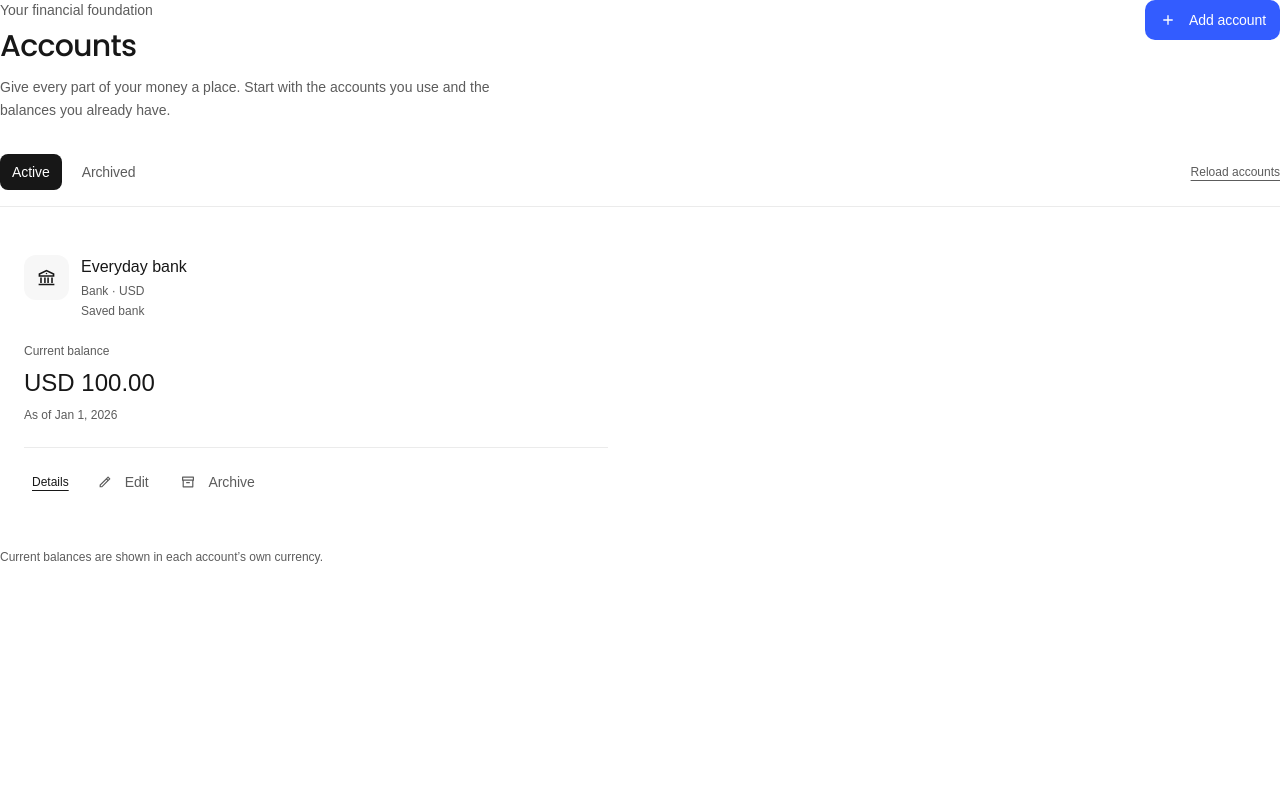
Test: editing preserves optional details and locks the account currency
This screenshot has width=1280, height=800.
Click the button "Edit": {"x": 123, "y": 482} left=85, top=464, right=160, bottom=500
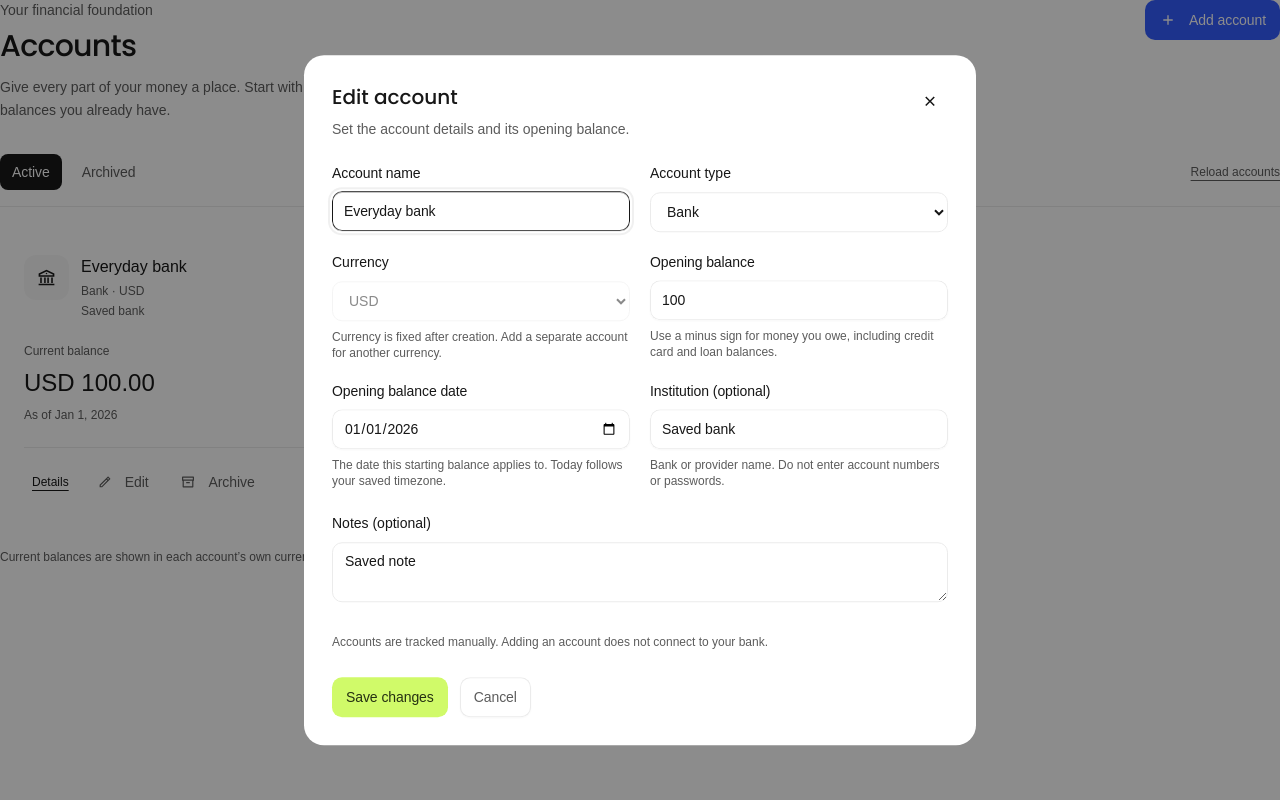
Now the dialog "Edit account" is shown, box left=304, top=55, right=976, bottom=745
Now the dropdown labelled "Currency" is disabled, box left=332, top=281, right=630, bottom=321
Now the field labelled "Institution (optional)" holds "Saved bank", box left=662, top=409, right=936, bottom=449
Press Escape
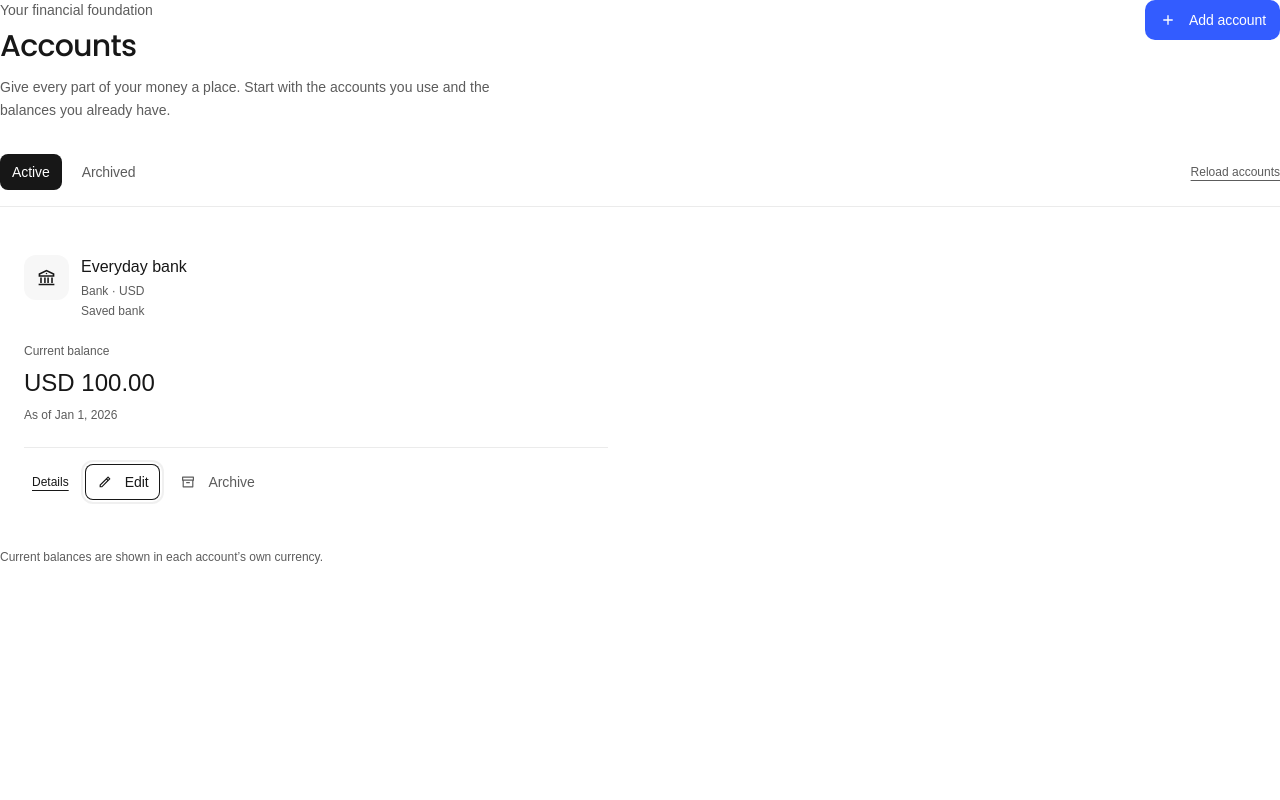
Now the dialog is gone
